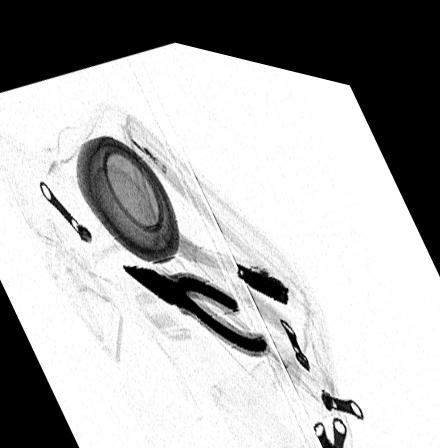Pliers: (122, 255, 269, 340)
